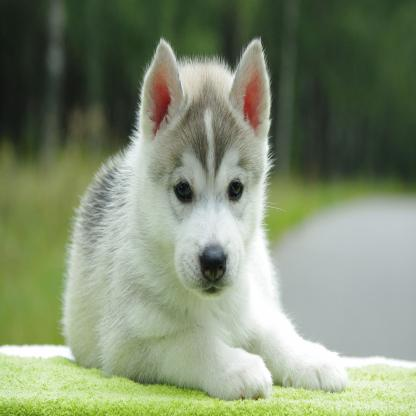husky: (61, 47, 347, 400)
